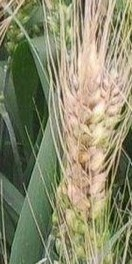Wheat scab: (58, 55, 108, 236)
